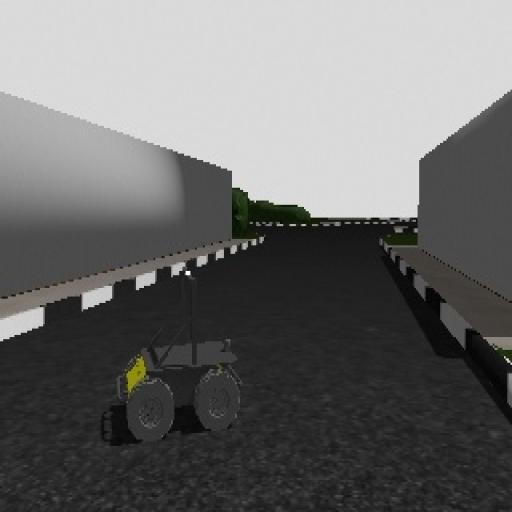huskya200: (102, 248, 257, 447)
